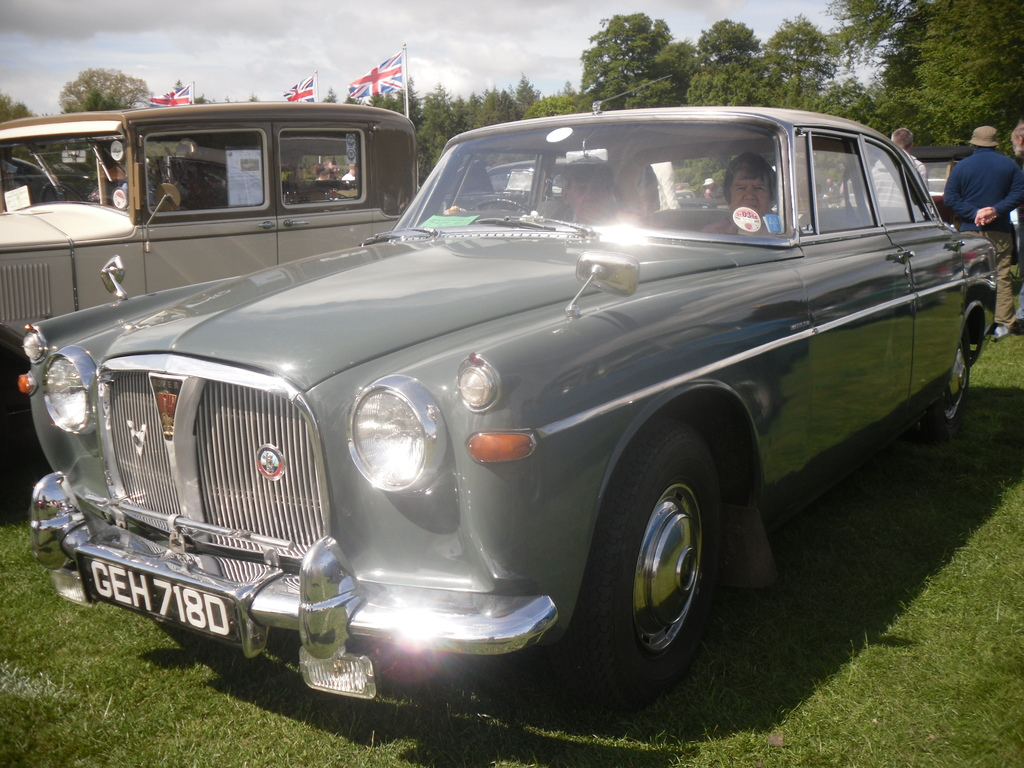Car: (18, 72, 1008, 701), (0, 98, 419, 508), (822, 144, 1020, 232), (446, 156, 570, 220)
